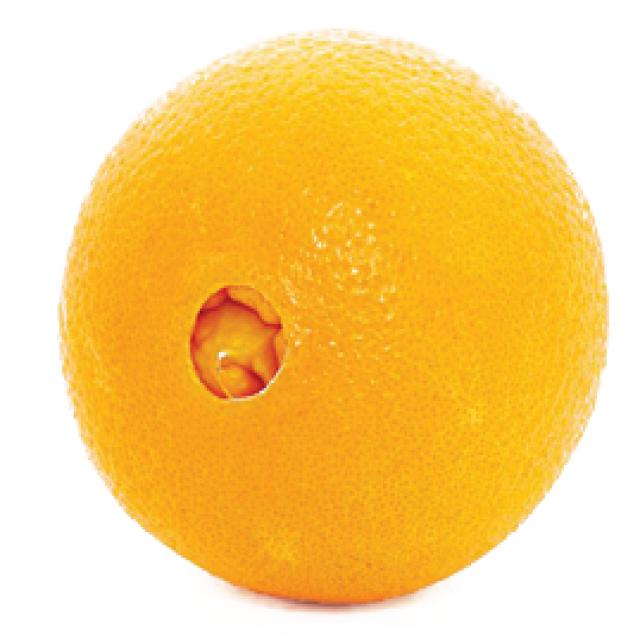orange: (56, 30, 616, 608)
